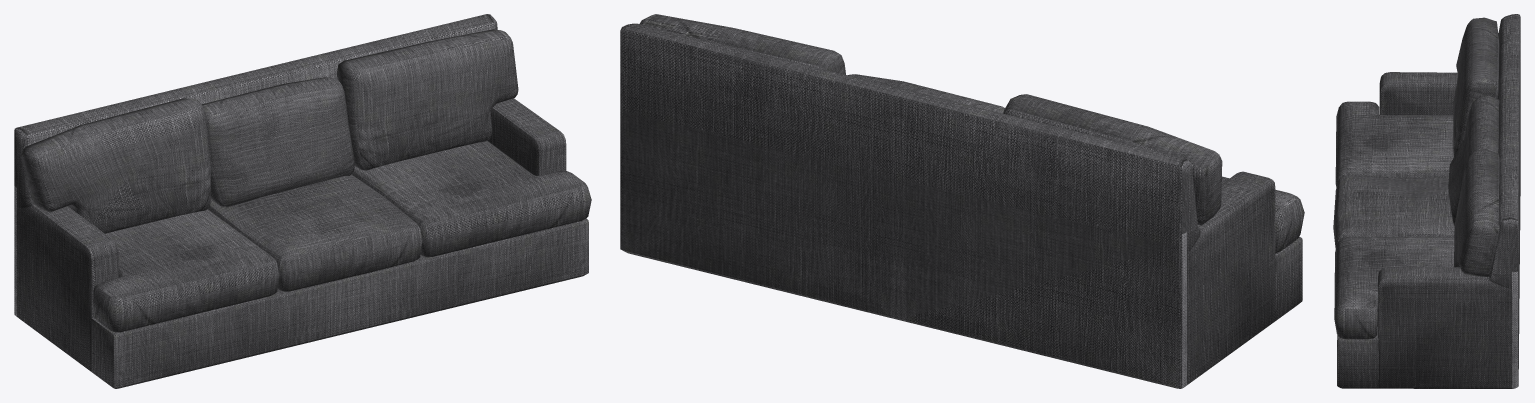
The model's file is SM_Prop_Sofa_02.FBX.
3 views of the same model, side by side, from view 1: azimuth 30°, elevation 25°; view 2: azimuth 150°, elevation 25°; view 3: azimuth 270°, elevation 25° (orthographic). The views are drawn at different scales.
Parts seen in each view (by area): view 1: SM_Prop_Sofa_02; view 2: SM_Prop_Sofa_02; view 3: SM_Prop_Sofa_02.
Boxes of the visible parts, x1,y1,x2,y2 form: SM_Prop_Sofa_02: (14,14,591,388); SM_Prop_Sofa_02: (620,14,1304,388); SM_Prop_Sofa_02: (1333,14,1520,388).
Bounding box in the file's own units: 2.43 × 0.9293 × 0.9089.
